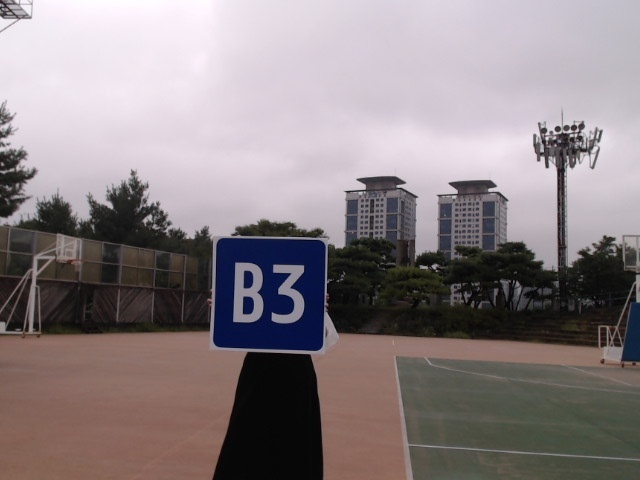delivery_b3: (211, 236, 326, 353)
